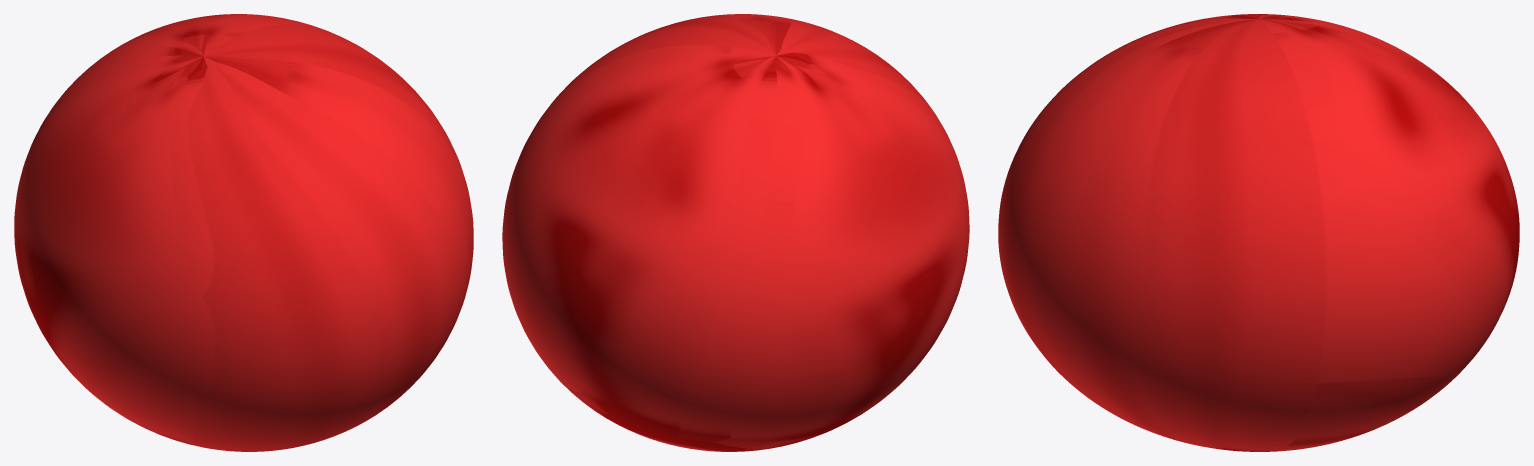
The model's file is Intro_aniball_ani.fbx.
3 views of the same model, side by side, from view 1: azimuth 30°, elevation 25°; view 2: azimuth 150°, elevation 25°; view 3: azimuth 270°, elevation 25° (orthographic). The views are drawn at different scales.
Visible parts, largest first — view 1: pSphere1; view 2: pSphere1; view 3: pSphere1.
Boxes of the visible parts, x1=… form: pSphere1: x1=14, y1=14, x2=473, y2=451; pSphere1: x1=502, y1=14, x2=969, y2=451; pSphere1: x1=998, y1=14, x2=1519, y2=451.
Size of the model in its own units: 32.09 by 30.19 by 35.95.
Materials: 1 (1 with a texture image).
